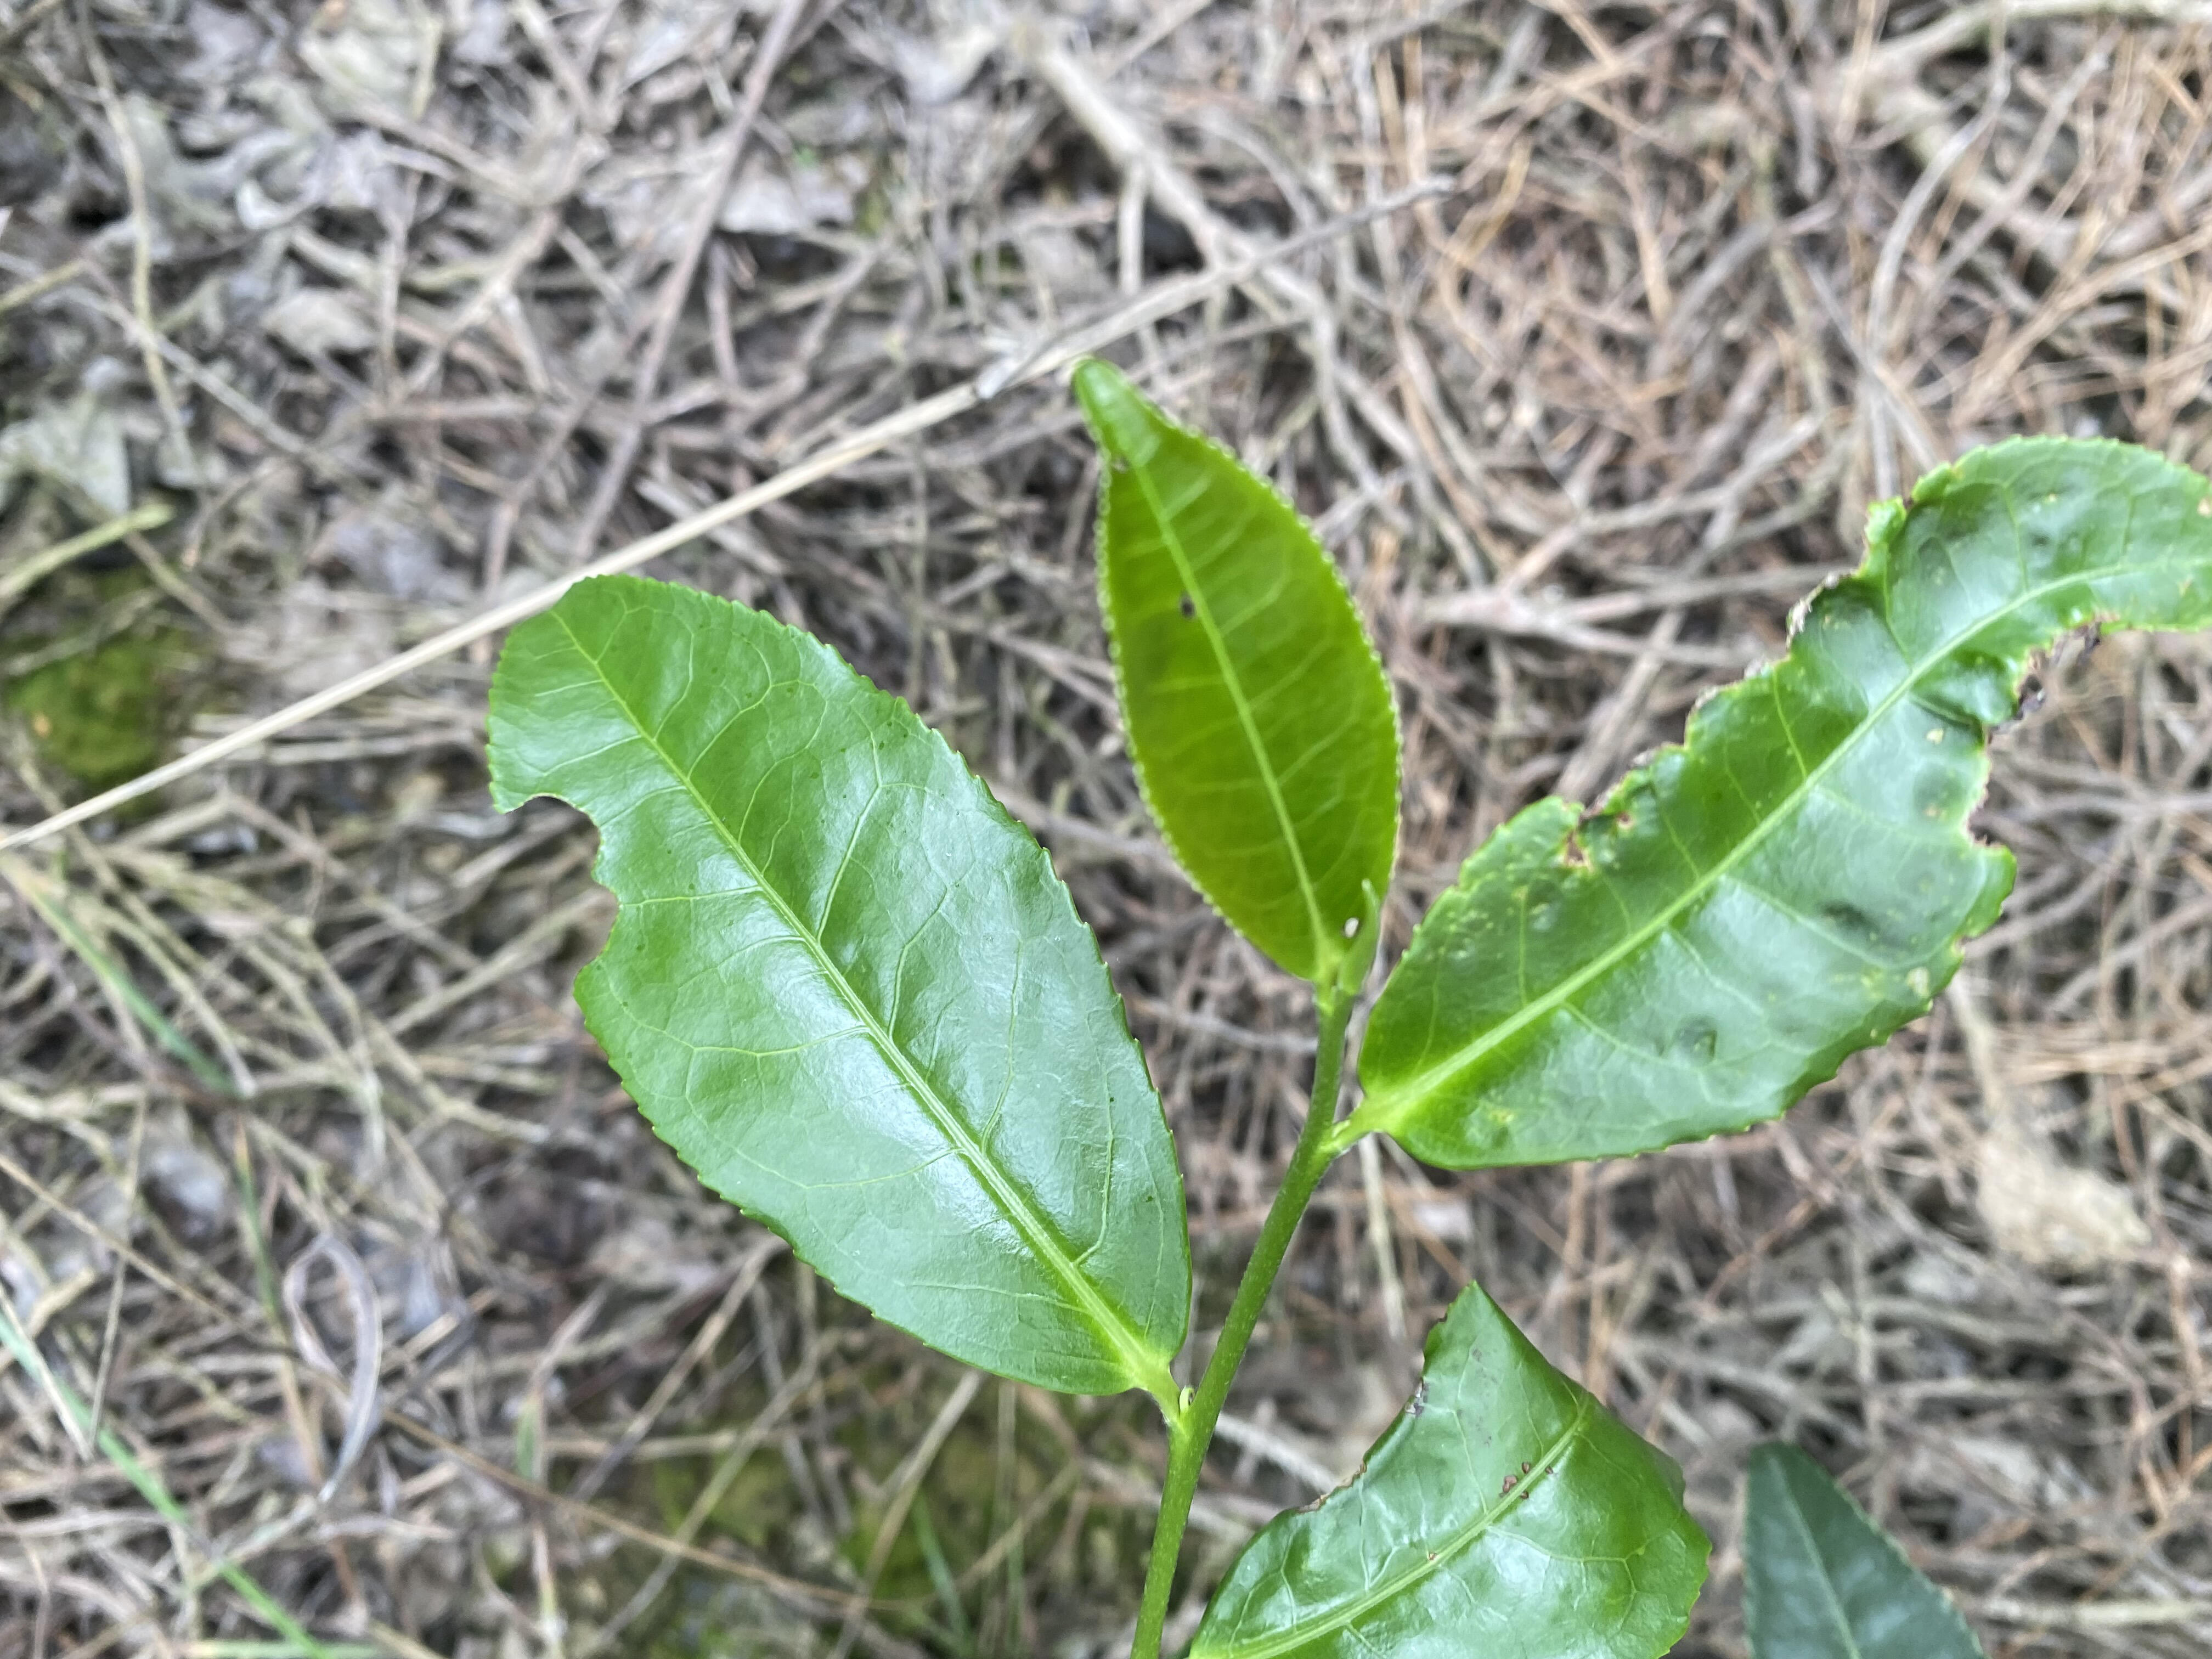chihuo_high: (1357, 432, 2210, 1171)
chihuo_low: (482, 573, 1195, 1398)
tanju_low: (1071, 357, 1404, 985)
